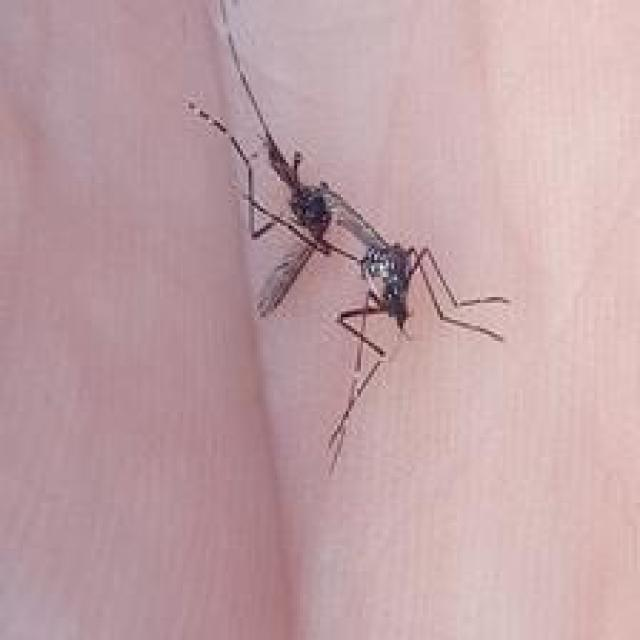Aedes albopictus: (182, 0, 511, 474)
